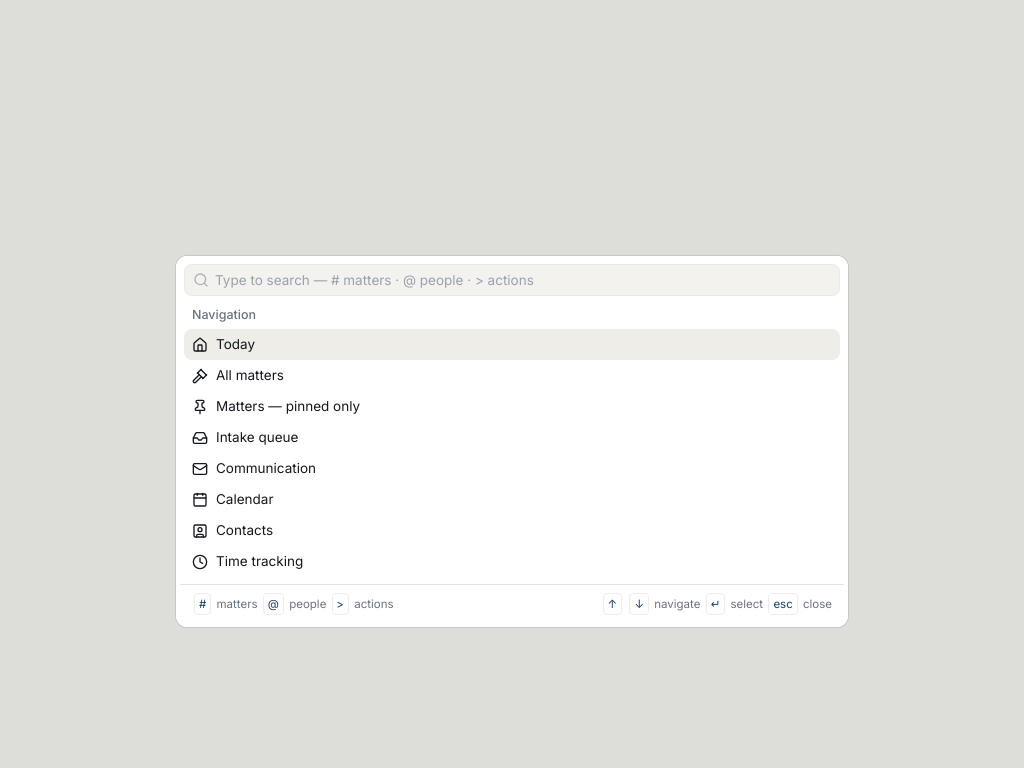
Test: CommandPalette — 'Search everywhere' row › hidden under the > scope — actions have no full-text search
Step 1. Type ">zzzz-no-such-action" into the dropdown with placeholder "Type to search — # matters · @ people · > actions" → (524, 280), box [209,270,839,290]
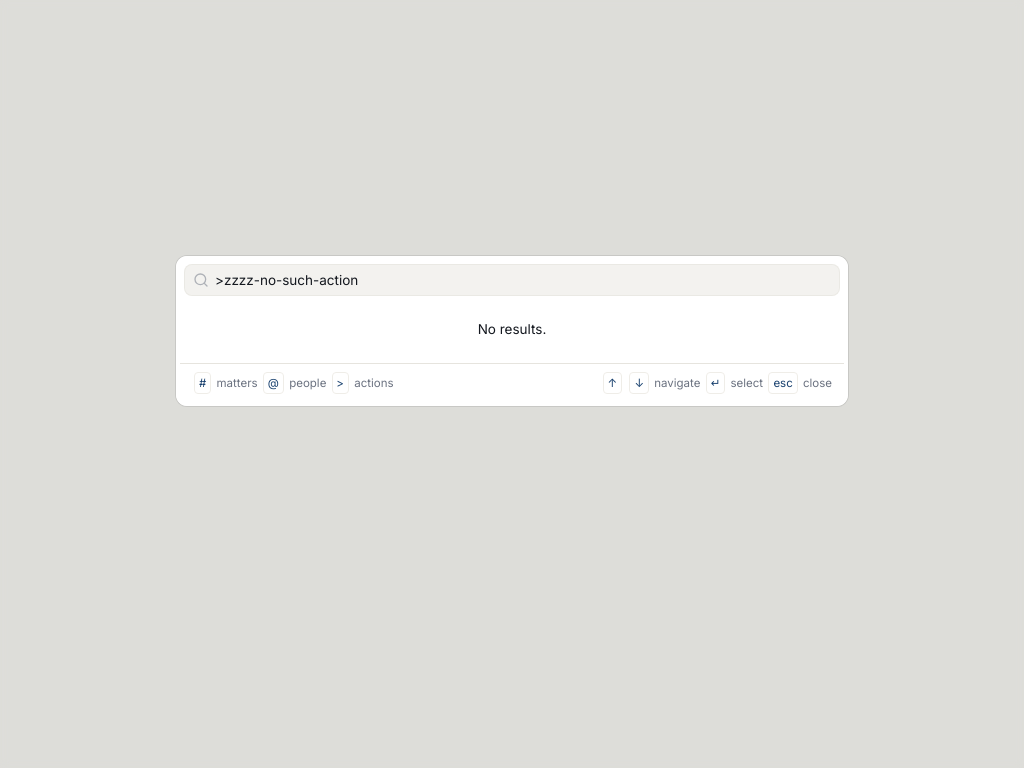
Expected: the text "No results." is shown, [478,321,546,337]
